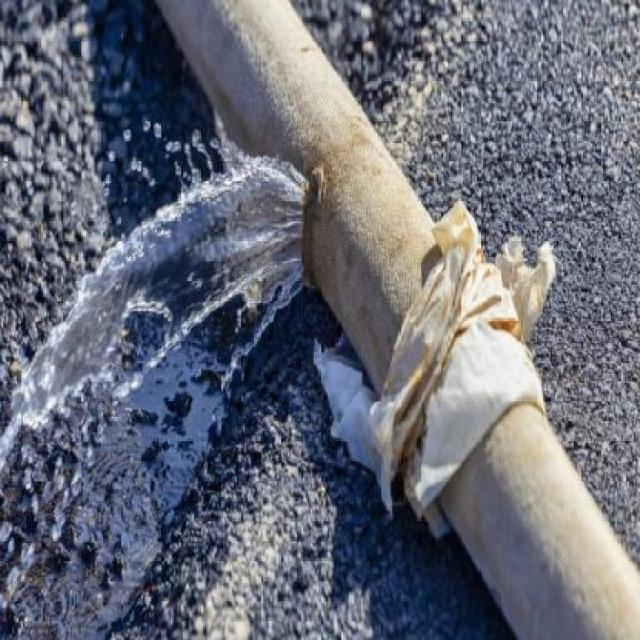leak: (0, 159, 302, 467)
